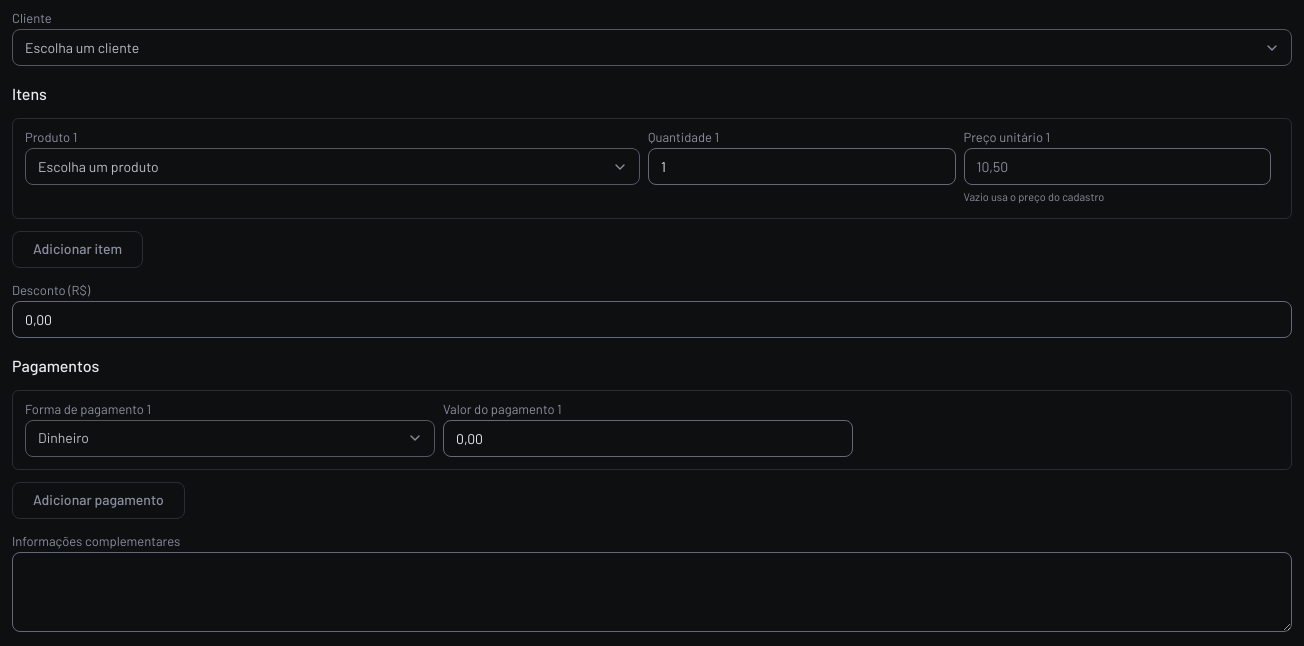
NotaForm › adiciona e remove itens
The width and height of the screenshot is (1304, 646).
expect the dropdown labelled "Cliente" is shown: met, box [12, 29, 1292, 66]
Click the button "Adicionar item" at {"x": 78, "y": 249}, box [12, 230, 143, 268]
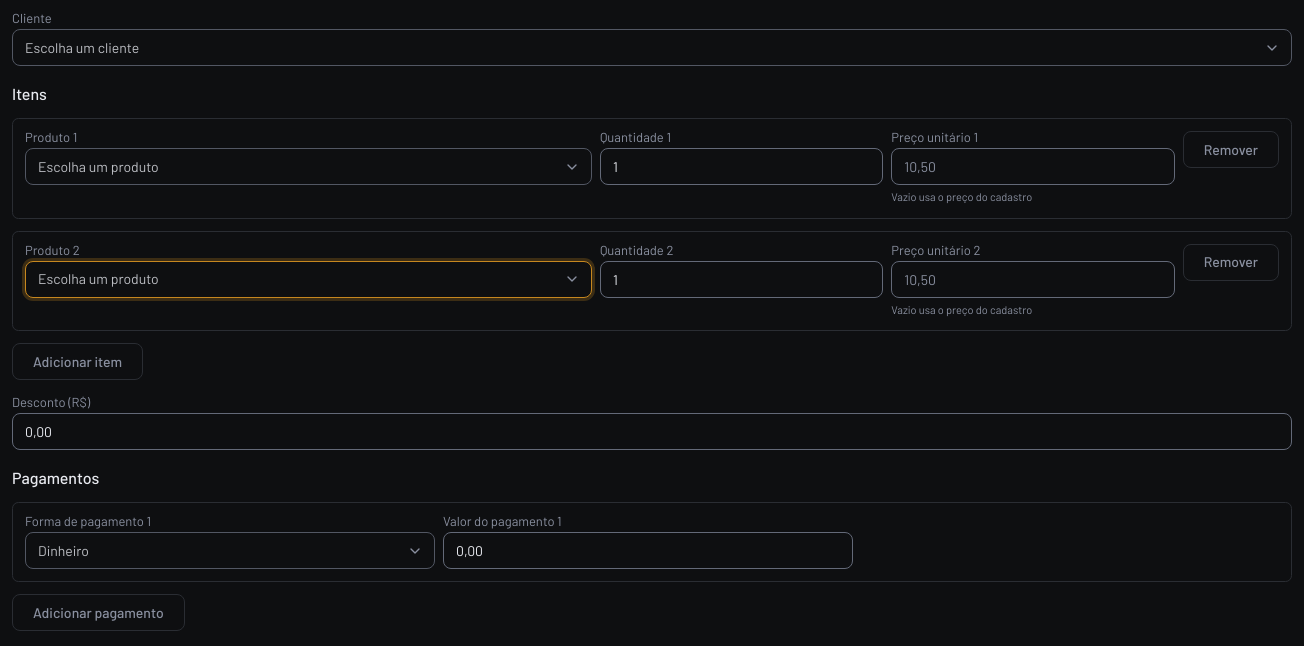
expect the dropdown labelled "Produto 2" is shown: met, box [25, 260, 592, 298]
Click the button with aria-label "Remover item 2" at {"x": 1231, "y": 262}, box [1183, 244, 1279, 280]
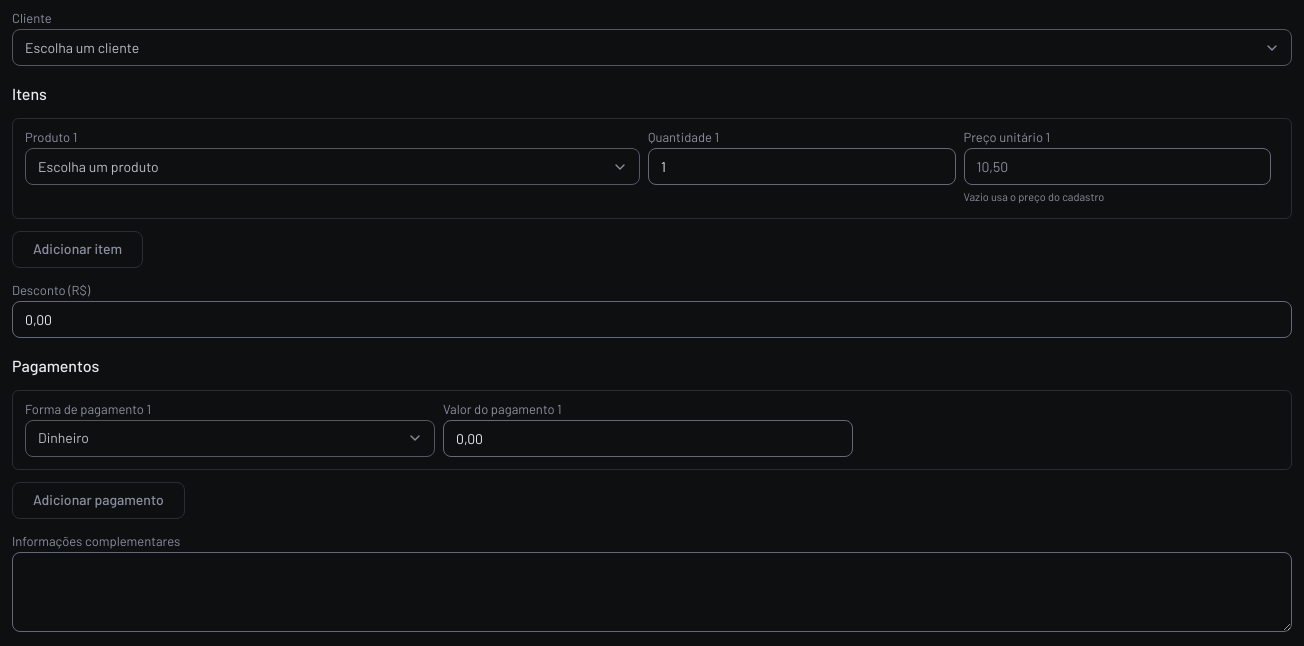
expect the label labelled "Produto 2" is gone: met
